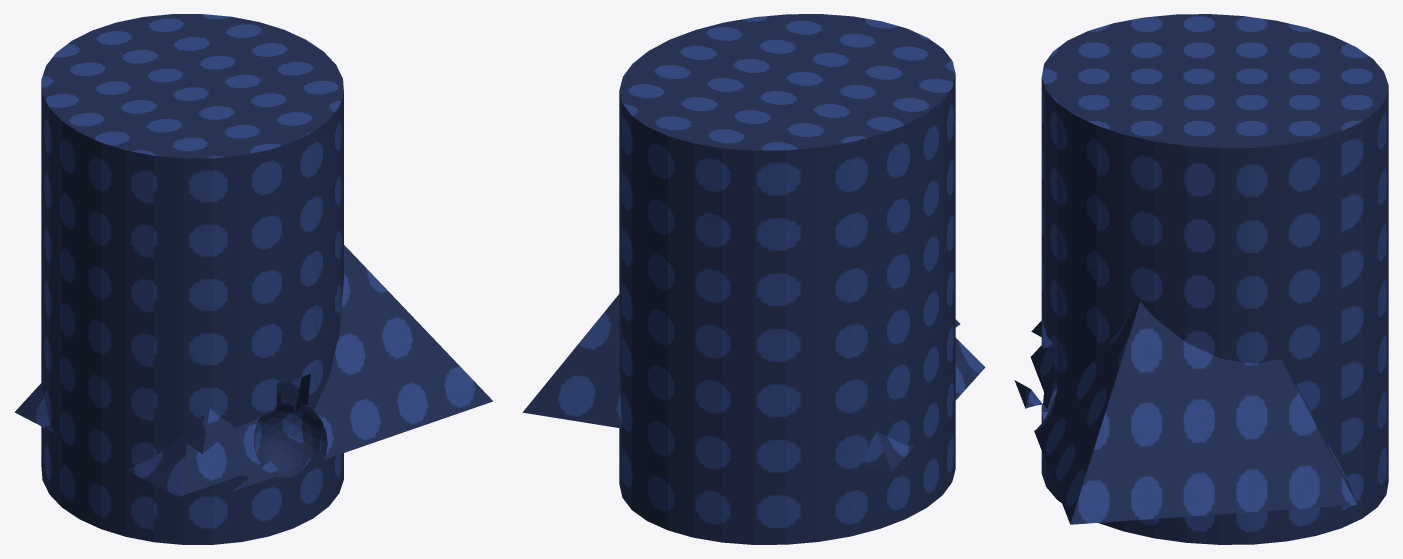
The picture shows the model from 3 angles, left to right: view 1: azimuth 30°, elevation 25°; view 2: azimuth 150°, elevation 25°; view 3: azimuth 270°, elevation 25°; orthographic projection. The views are drawn at different scales.
Visible parts, largest first — view 1: geometry_0; view 2: geometry_0; view 3: geometry_0.
Part boxes in pixels (bbox=[...]): geometry_0: bbox=[14, 14, 493, 544]; geometry_0: bbox=[522, 14, 985, 544]; geometry_0: bbox=[1014, 14, 1388, 544].
Size of the model in its own units: 1.79 by 1.78 by 1.52.
Materials: 1 (1 with a texture image).
